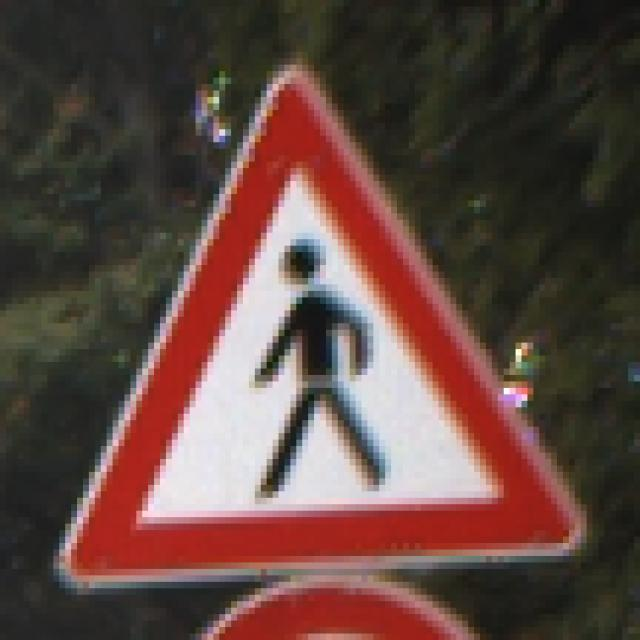pedestrian crossing: (64, 67, 583, 579)
